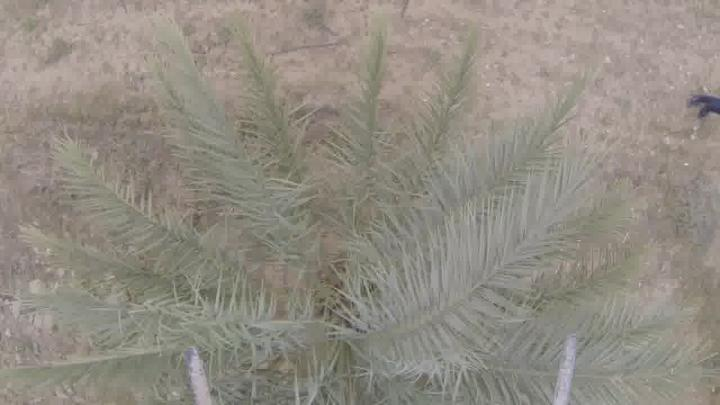Date-Palm-Crown: (158, 133, 522, 405)
